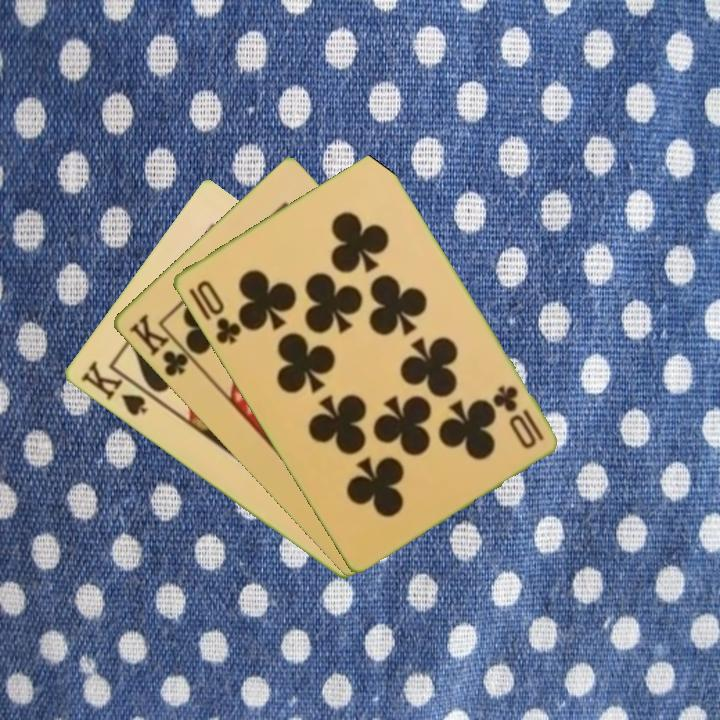10c: (488, 381, 546, 452), (192, 276, 244, 347)
Kc: (125, 310, 199, 380)
Ks: (76, 357, 150, 419)
